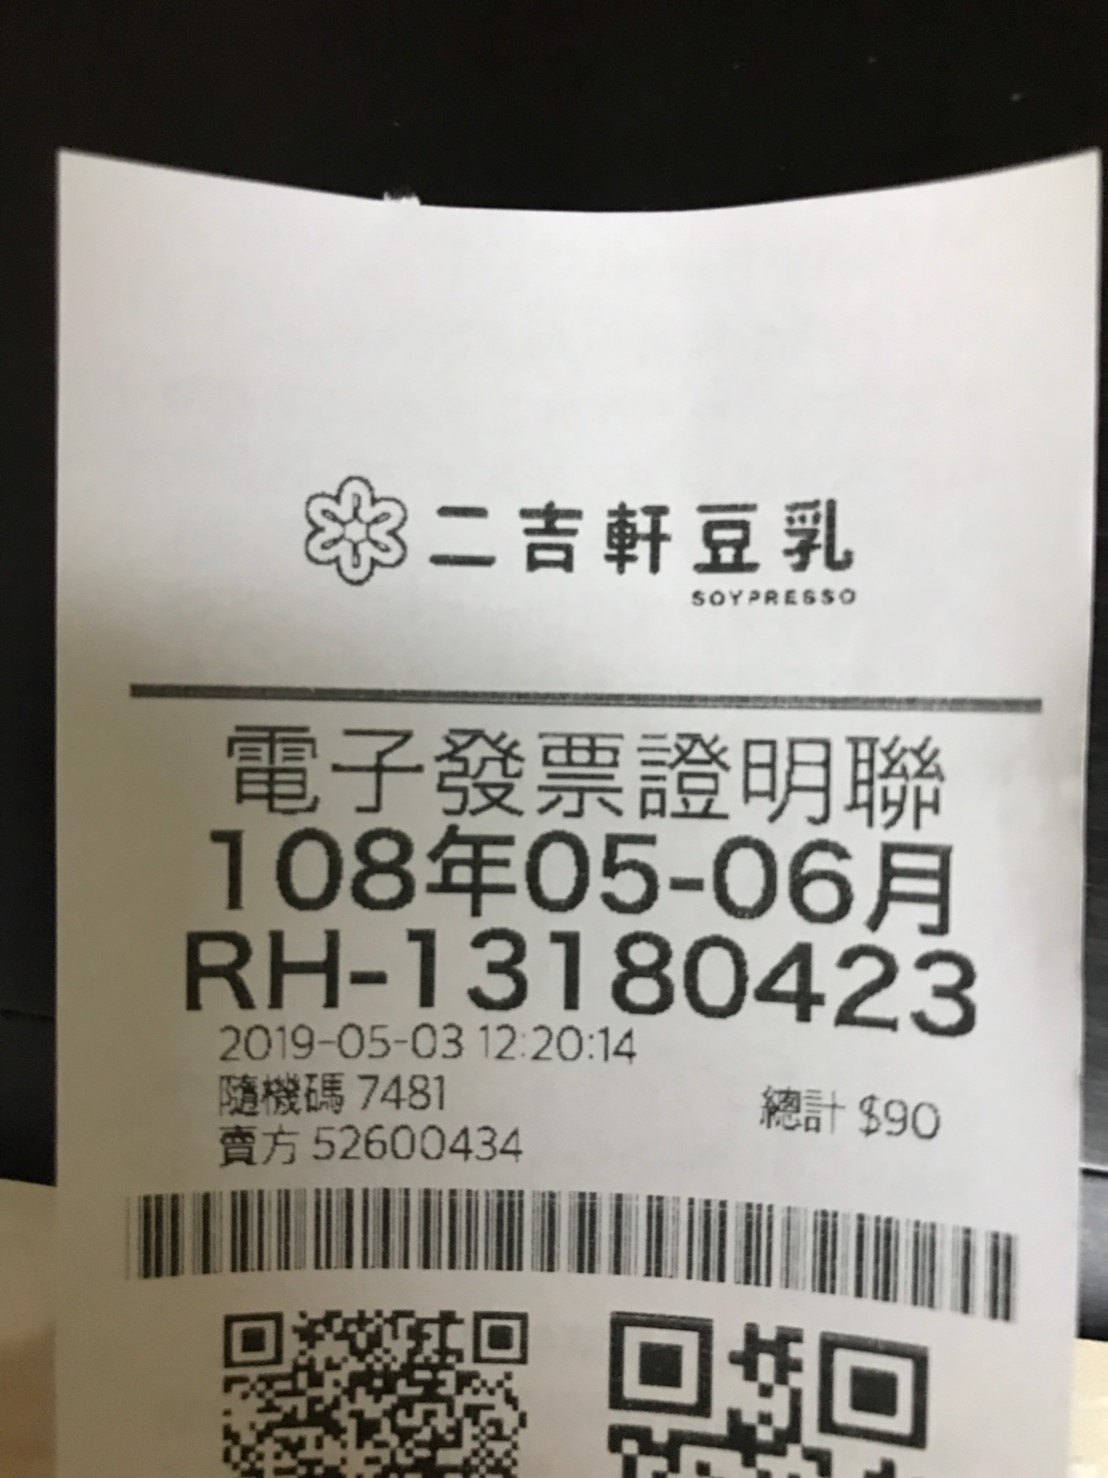Date_New: (201, 823, 957, 939)
Number_New: (400, 922, 986, 1044)
